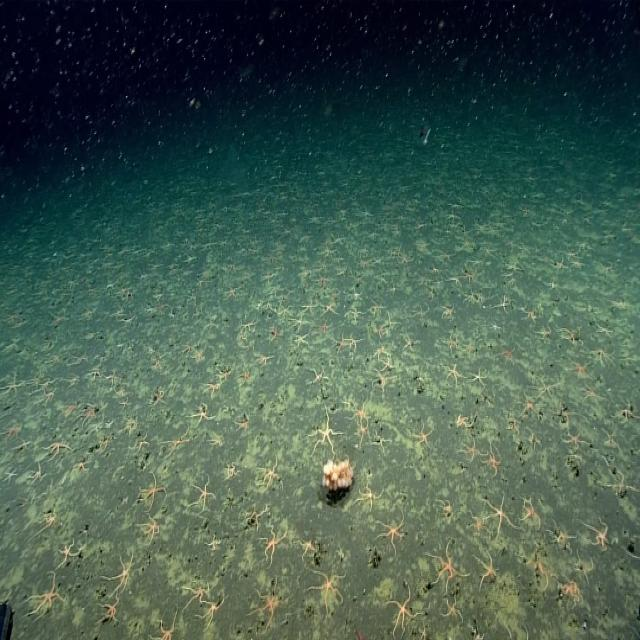brittle-stars: (306, 568, 347, 613), (433, 538, 465, 592), (598, 456, 638, 498), (252, 580, 282, 634), (28, 573, 63, 619), (374, 506, 406, 551), (386, 584, 413, 634), (311, 409, 341, 454), (105, 551, 134, 592), (556, 571, 586, 609), (484, 495, 512, 534), (580, 516, 610, 552), (137, 473, 166, 508), (260, 525, 288, 561), (199, 594, 228, 628), (475, 548, 498, 589), (257, 457, 284, 491), (150, 607, 177, 640), (549, 520, 574, 554), (191, 476, 214, 512), (183, 577, 210, 606), (164, 426, 190, 456), (358, 483, 384, 512), (139, 513, 163, 544), (56, 540, 82, 566), (98, 595, 121, 621), (296, 535, 319, 561), (484, 442, 501, 476), (563, 427, 587, 451), (523, 500, 542, 530), (44, 437, 70, 458), (412, 423, 434, 447), (459, 439, 480, 464), (567, 354, 588, 378), (535, 375, 555, 400), (469, 510, 488, 536), (41, 504, 60, 530), (443, 596, 461, 623), (520, 392, 538, 418), (79, 405, 97, 430), (596, 320, 617, 341), (584, 386, 604, 408), (349, 398, 369, 420), (192, 404, 212, 426), (499, 344, 516, 368), (223, 461, 241, 483), (470, 366, 488, 387), (444, 362, 462, 383), (443, 332, 460, 354), (496, 293, 512, 316), (354, 422, 372, 442), (456, 410, 474, 430), (348, 334, 364, 356), (13, 437, 32, 455), (191, 343, 208, 363), (402, 333, 418, 354), (237, 366, 253, 387), (309, 365, 325, 386), (152, 386, 167, 408), (2, 468, 20, 486), (374, 369, 388, 392), (346, 304, 362, 324), (203, 381, 221, 398), (380, 354, 395, 374), (74, 457, 89, 477), (371, 295, 385, 316), (218, 364, 234, 382), (292, 332, 310, 348), (302, 299, 318, 317), (61, 401, 77, 419), (336, 335, 350, 355), (267, 324, 282, 342), (226, 283, 238, 302), (462, 269, 477, 284), (320, 320, 330, 337), (491, 319, 502, 334), (419, 624, 428, 640), (116, 385, 125, 399)
